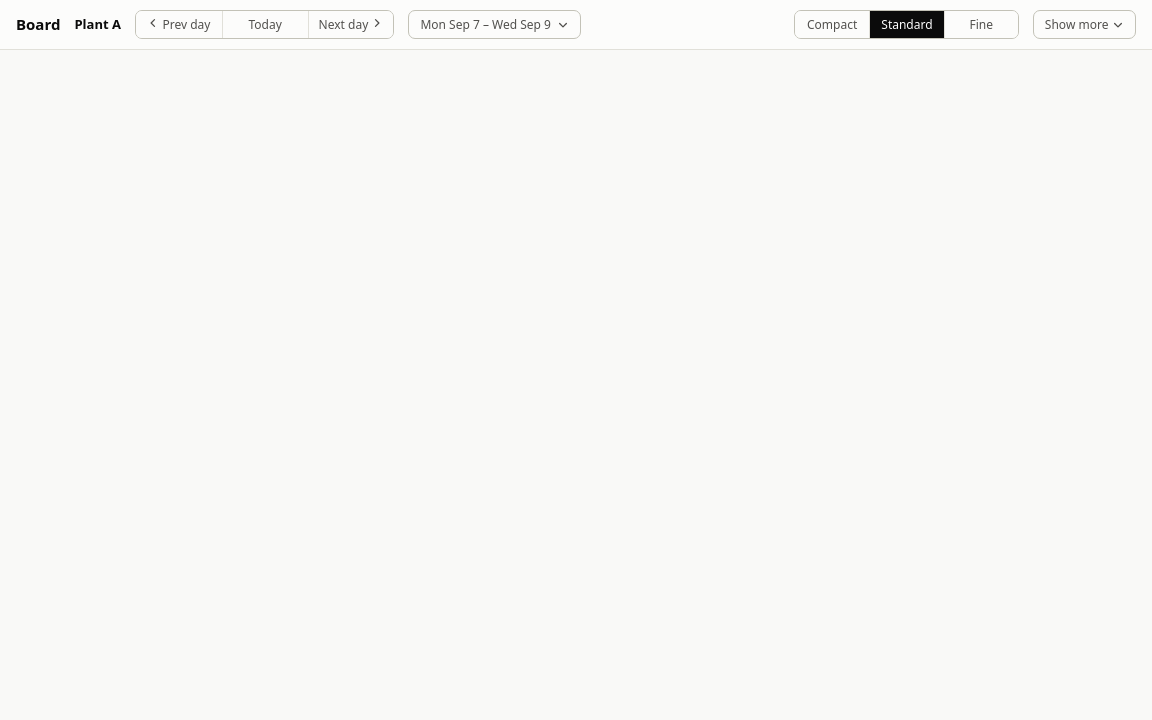
Test case: the save control's rights (R-356) › an admin's Apply a template opens the dialog on the template source; Copy week opens it on the week source (R-358)
Click the button "Show more" at (1084, 25), box [1033,10,1136,39]
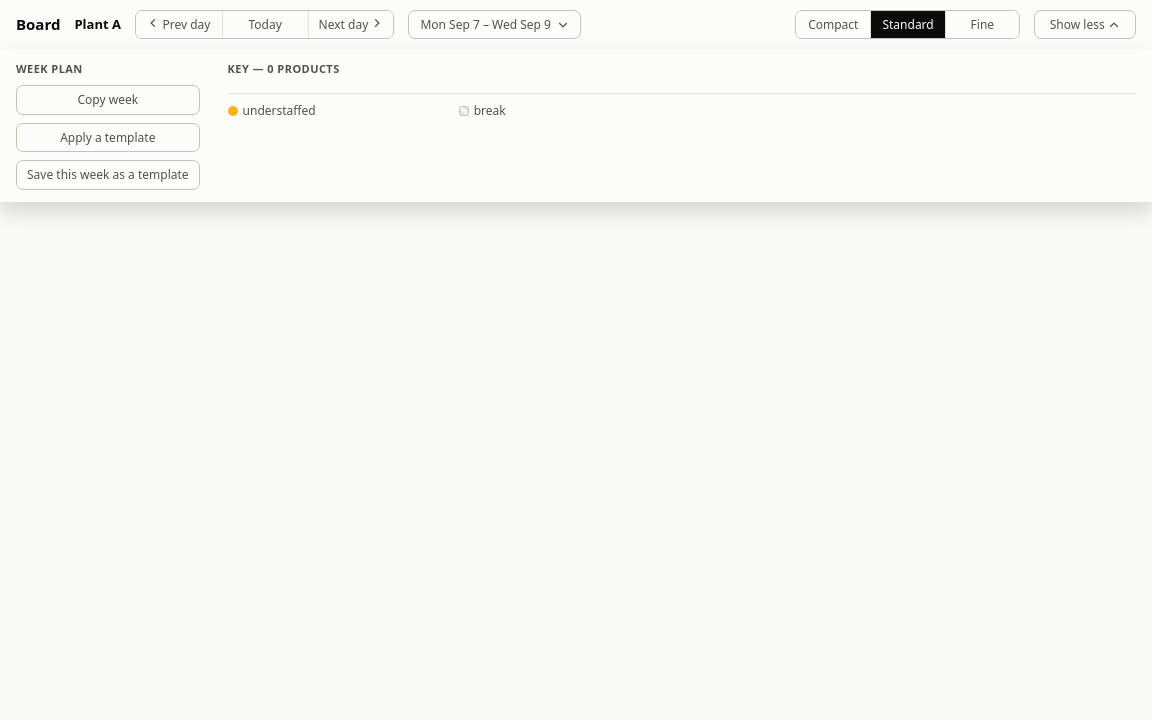
Click the button "Apply a template" at (108, 137), box [16,123,200,152]
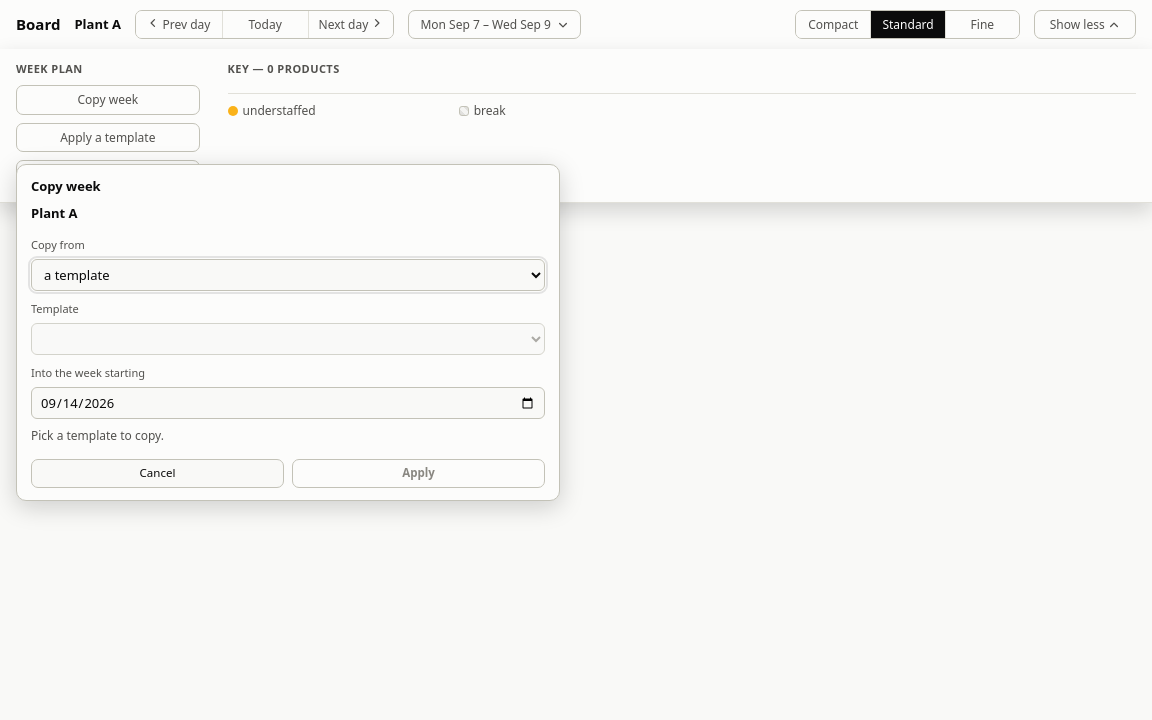
Check: the field labelled "Copy the week starting" is not shown
Check: the dropdown labelled "Template" is shown, box [31,323,545,355]
Check: the dropdown labelled "Copy from" shows "a template", box [31,259,545,291]
Click the button "Cancel" at (158, 473), box [31,459,284,488]
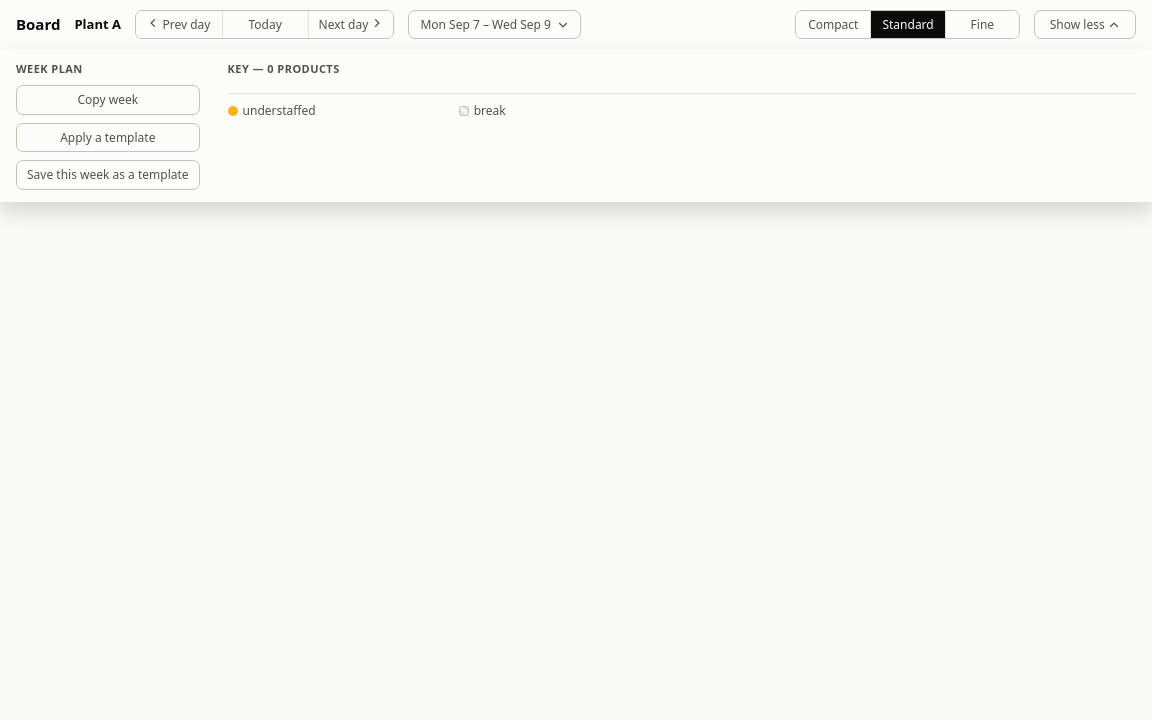
Click the button "Copy week" at (108, 100), box [16,85,200,115]
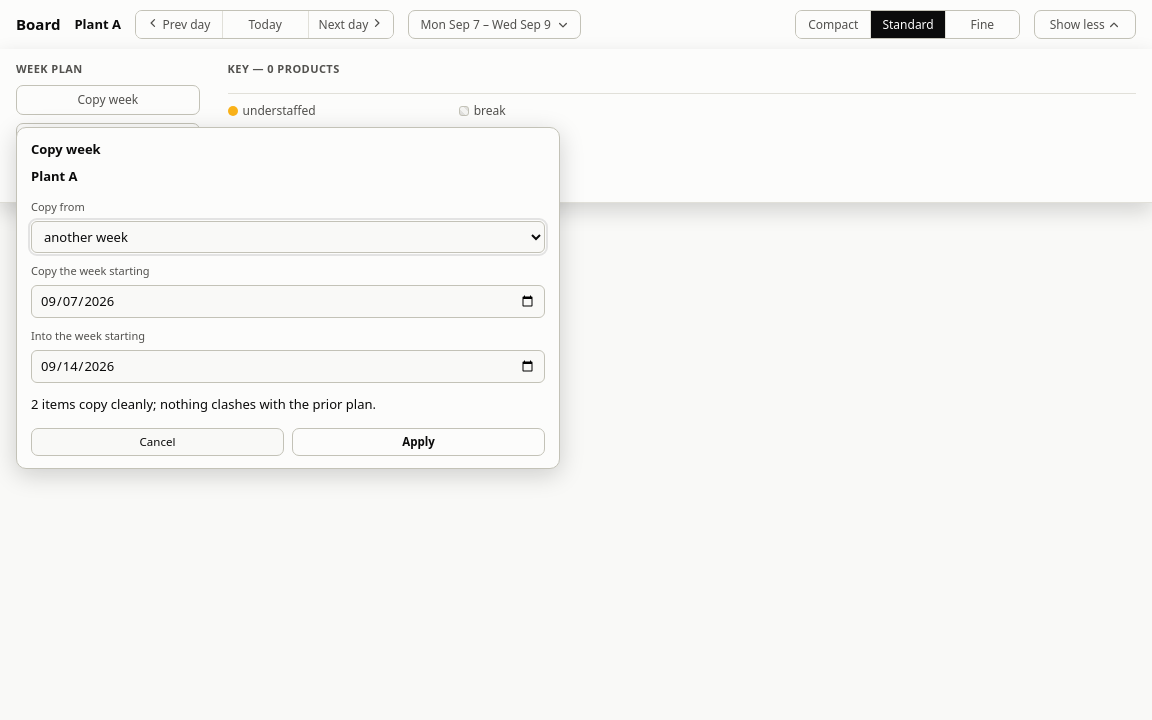
Check: the date field labelled "Copy the week starting" is shown, box [31,285,545,318]
Check: the dropdown labelled "Copy from" shows "another week", box [31,221,545,253]
